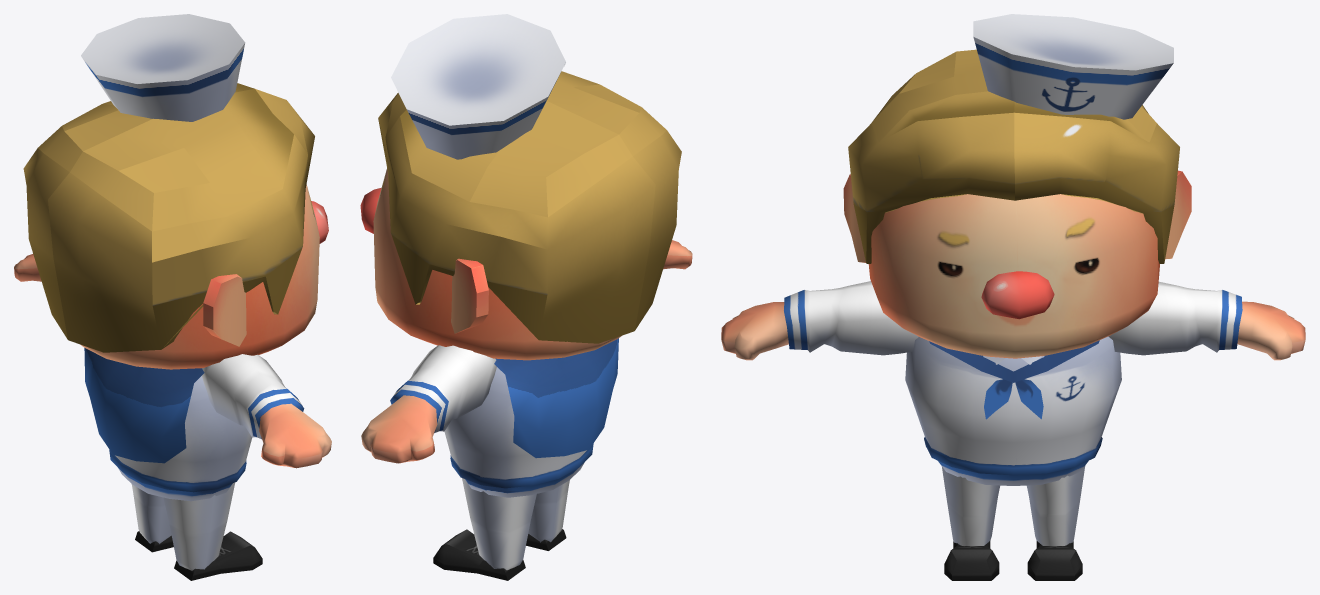
The model's file is Char_Ser_Tran_03.fbx.
The picture shows the model from 3 angles, left to right: view 1: azimuth 30°, elevation 25°; view 2: azimuth 150°, elevation 25°; view 3: azimuth 270°, elevation 25°; orthographic projection. The views are drawn at different scales.
Visible parts, largest first — view 1: Hair_Sailor, Hat_Sailor, Cloak_Sailor, Head_Sailor, R_Arm_Sailor, Body_Sailor, R_Leg_Sailor, R_Ear_Sailor, L_Leg_Sailor, L_Arm_Sailor, Nose_Sailor; view 2: Hair_Sailor, Hat_Sailor, Head_Sailor, Cloak_Sailor, L_Arm_Sailor, Body_Sailor, L_Leg_Sailor, L_ear_Sailor, R_Leg_Sailor, R_Arm_Sailor, Nose_Sailor; view 3: Head_Sailor, Hair_Sailor, Body_Sailor, Hat_Sailor, R_Arm_Sailor, L_Arm_Sailor, L_Leg_Sailor, R_Leg_Sailor, Cloak_Sailor, Nose_Sailor, L_ear_Sailor, R_Ear_Sailor.
Boxes of the visible parts, box(x1,y1,x2,y2) form: Hair_Sailor: box(23, 83, 314, 352); Hat_Sailor: box(81, 14, 245, 121); Cloak_Sailor: box(84, 348, 204, 463); Head_Sailor: box(80, 184, 319, 369); R_Arm_Sailor: box(202, 354, 331, 468); Body_Sailor: box(109, 376, 251, 501); R_Leg_Sailor: box(163, 482, 262, 580); R_Ear_Sailor: box(203, 274, 246, 346); L_Leg_Sailor: box(131, 484, 173, 552); L_Arm_Sailor: box(14, 254, 41, 281); Nose_Sailor: box(311, 201, 328, 243); Hair_Sailor: box(378, 71, 681, 343); Hat_Sailor: box(391, 14, 565, 159); Head_Sailor: box(373, 168, 621, 360); Cloak_Sailor: box(494, 338, 618, 458); L_Arm_Sailor: box(361, 345, 496, 463); Body_Sailor: box(444, 367, 593, 497); L_Leg_Sailor: box(433, 478, 536, 580); L_ear_Sailor: box(451, 258, 488, 333); R_Leg_Sailor: box(526, 480, 569, 550); R_Arm_Sailor: box(663, 240, 692, 269); Nose_Sailor: box(360, 188, 381, 233); Head_Sailor: box(868, 194, 1159, 358); Hair_Sailor: box(848, 49, 1179, 263); Body_Sailor: box(905, 336, 1121, 485); Hat_Sailor: box(973, 14, 1173, 119); R_Arm_Sailor: box(721, 281, 918, 360); L_Arm_Sailor: box(1108, 281, 1305, 360); L_Leg_Sailor: box(1027, 466, 1085, 580); R_Leg_Sailor: box(942, 467, 999, 580); Cloak_Sailor: box(929, 340, 1099, 419); Nose_Sailor: box(981, 271, 1054, 319); L_ear_Sailor: box(1165, 170, 1191, 259); R_Ear_Sailor: box(843, 174, 865, 262).
Size of the model in its own units: 4.6 by 7.78 by 7.74.
